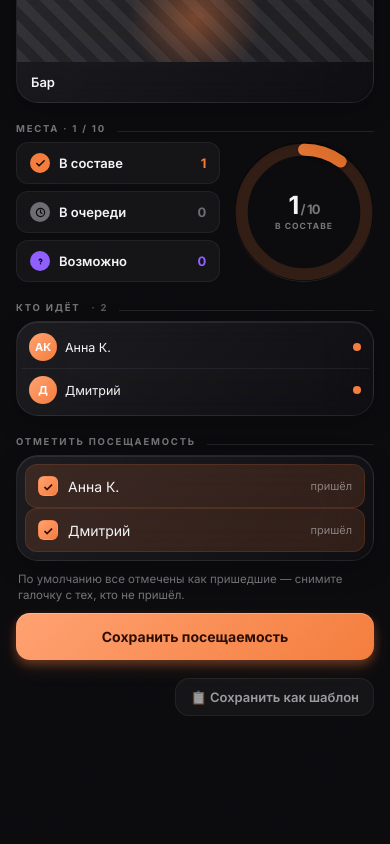
Scenario: EventPage — отметка посещаемости › организатор после события видит блок и сохраняет посещаемость ТОЛЬКО для confirmed (не going/expired)
This screenshot has width=390, height=844.
(page scrolled)
Expected: the text "Отметить посещаемость" is shown, [16,436,196,447]
Expected: the button "✓ Анна К. пришёл" is shown, [25,464,365,508]
Click the button "Сохранить посещаемость". click: (195,637)
box: [16,613,374,660]
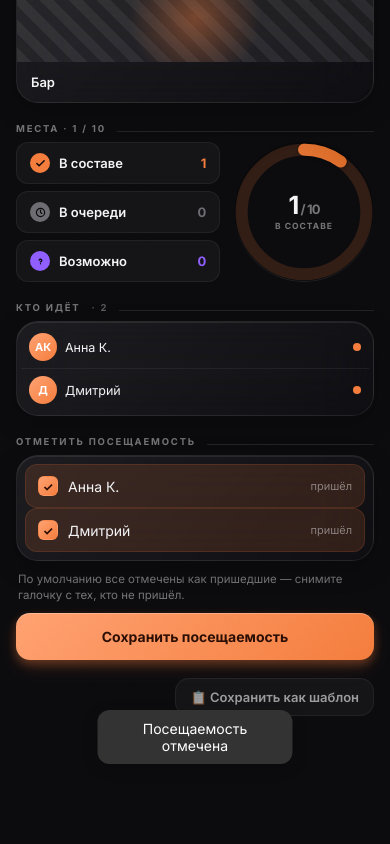
Expected: the text "Посещаемость отмечена" is shown, [98,710,292,764]
